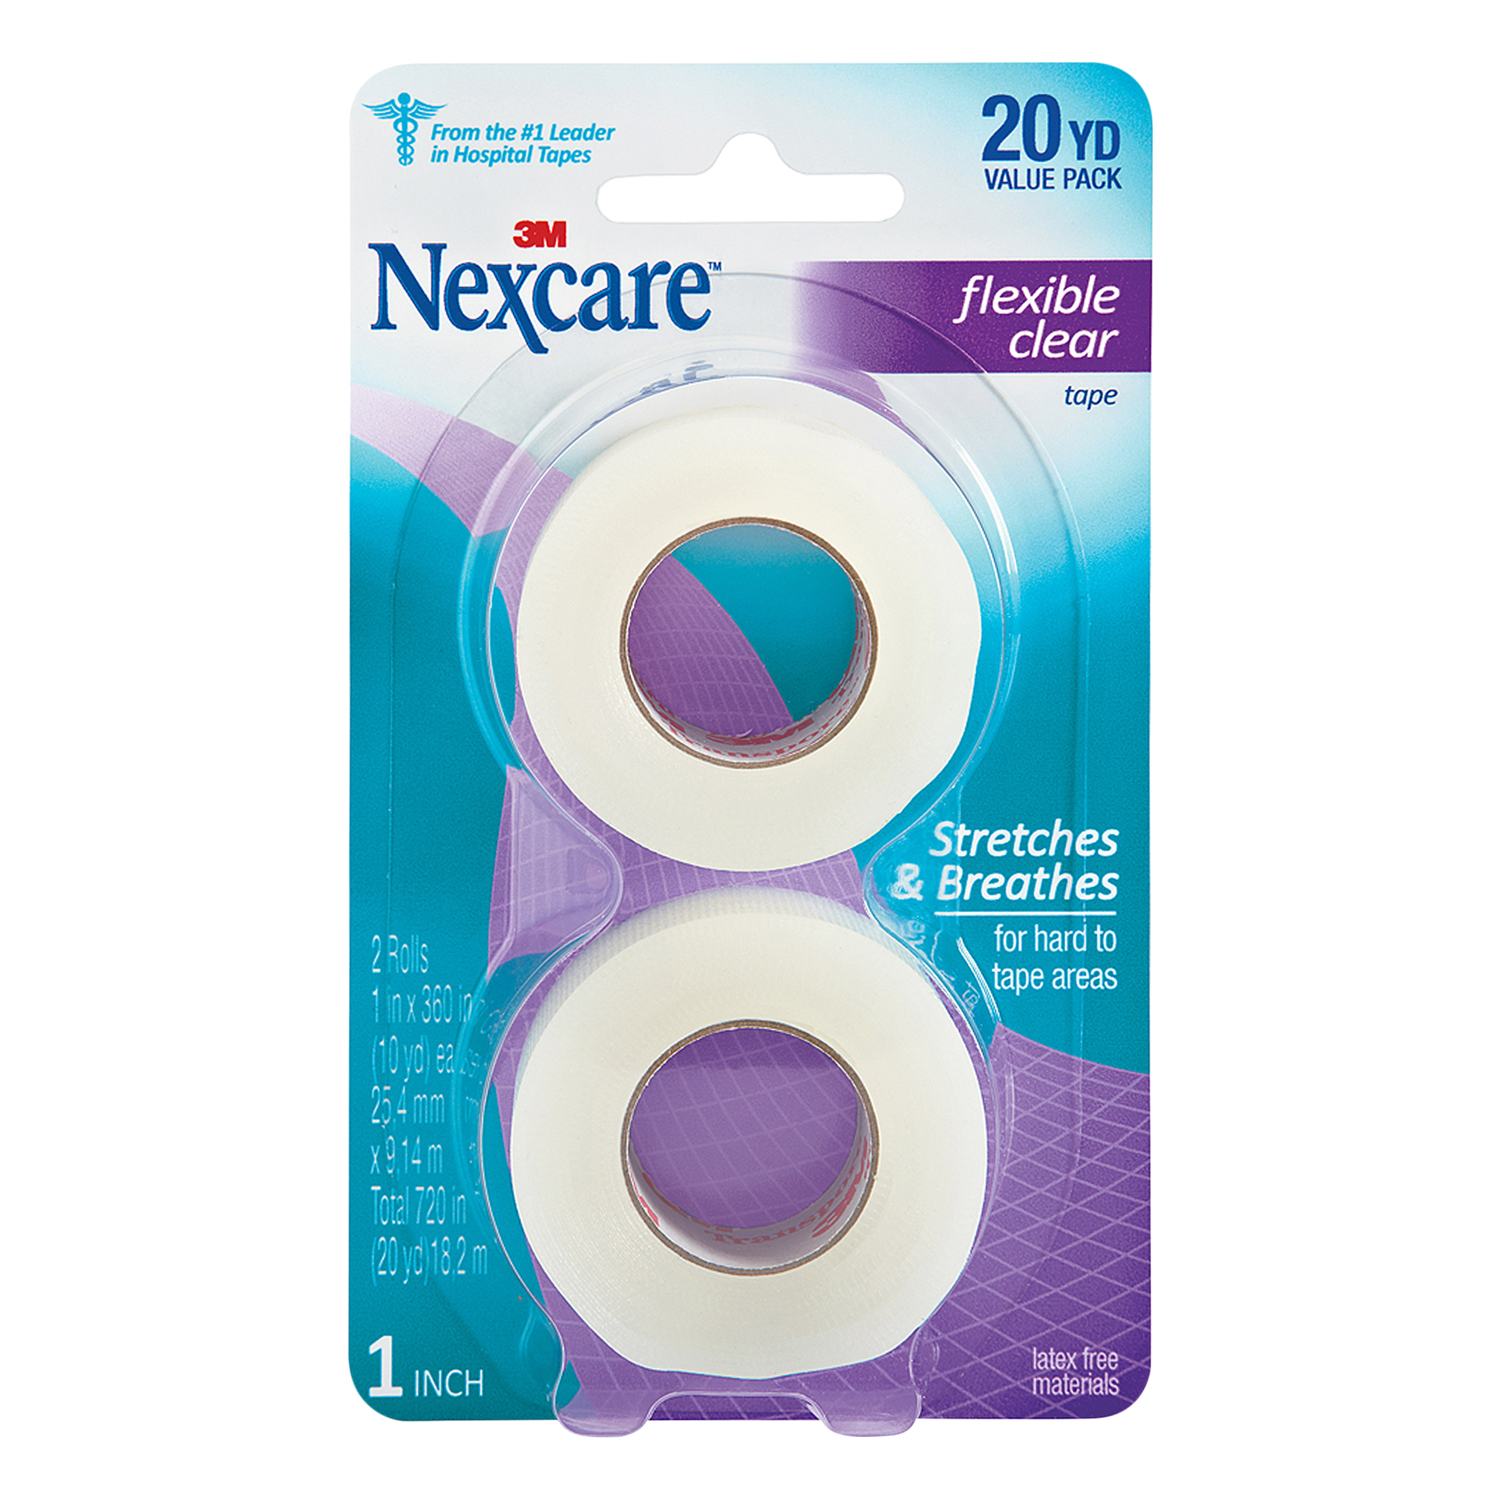3M: (508, 216, 578, 255)
